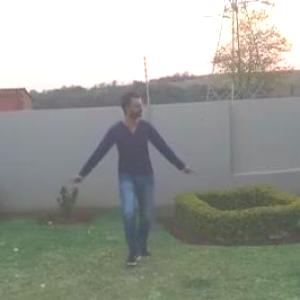land: (71, 90, 194, 266)
